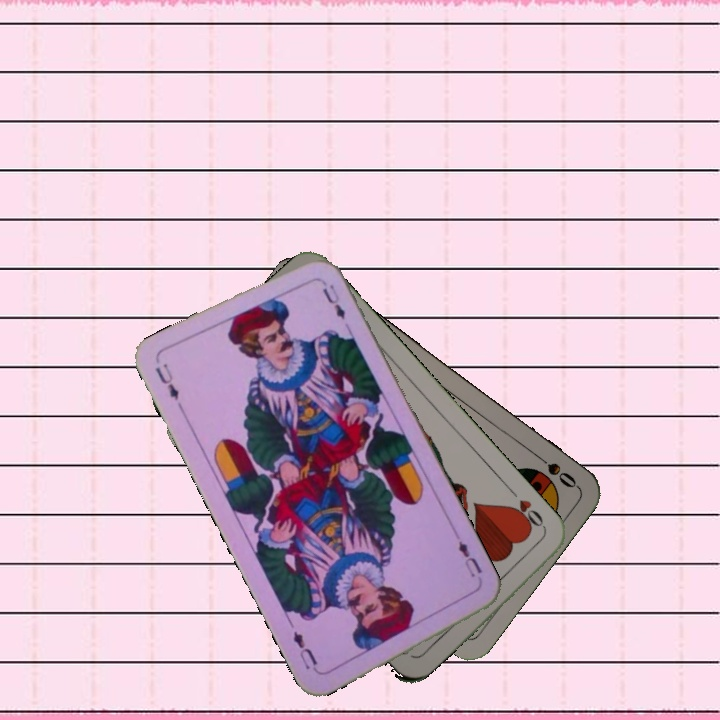EU: (151, 359, 182, 404), (454, 537, 485, 580)
HO: (503, 485, 549, 535)
SO: (529, 448, 579, 491)
